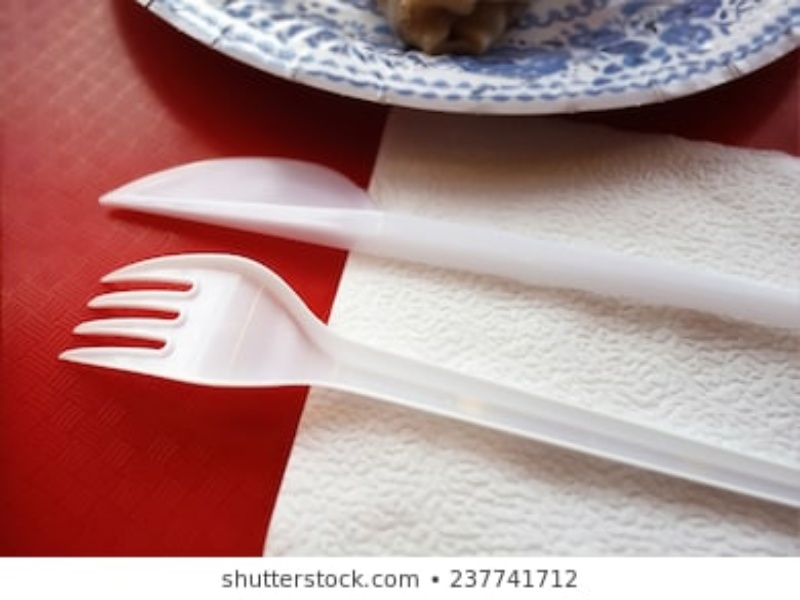plastic-silverware: (55, 251, 800, 506), (89, 155, 800, 329)
